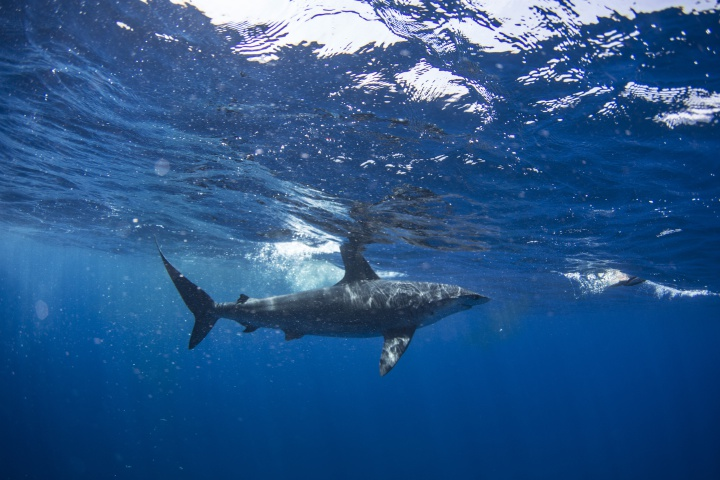Hammer: (93, 193, 586, 410), (67, 154, 405, 317)
